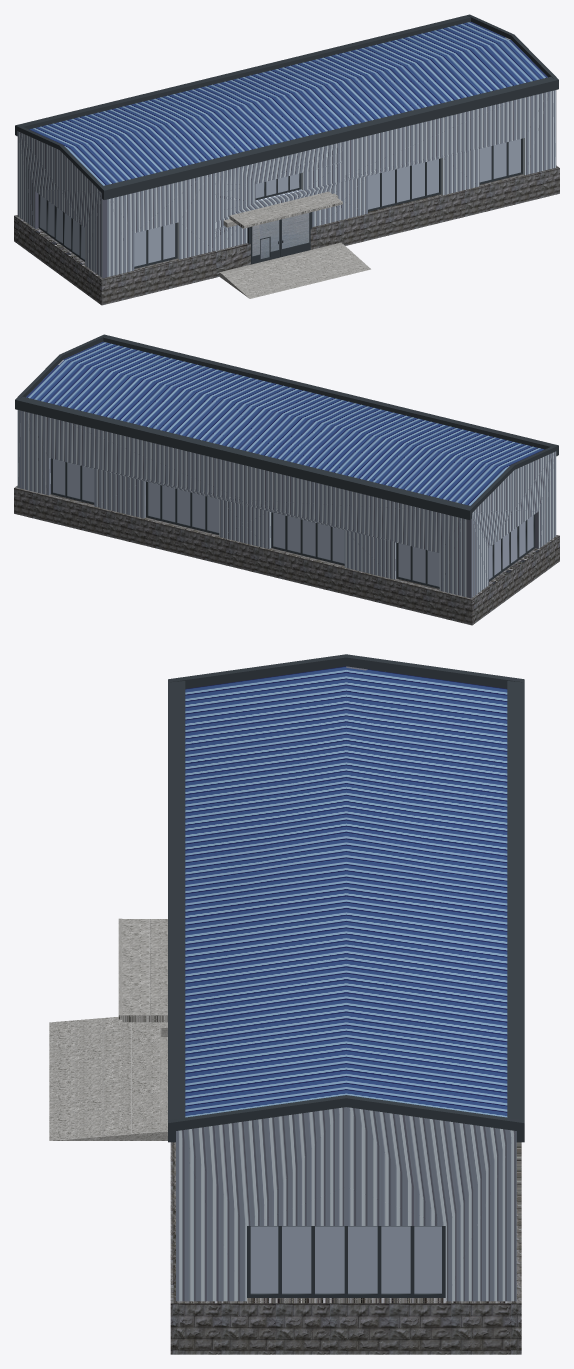
The model's file is changfanglan1.glb.
3 views of the same model, one above another, from view 1: azimuth 30°, elevation 25°; view 2: azimuth 150°, elevation 25°; view 3: azimuth 270°, elevation 25° (orthographic). The views are drawn at different scales.
Parts seen in each view (by area): view 1: 对象049, 对象046, 对象050, 对象047, 对象051, 对象053, 对象045; view 2: 对象049, 对象046, 对象047, 对象050, 对象051; view 3: 对象049, 对象046, 对象050, 对象047, 对象053, 对象051.
Part boxes in pixels (box(x1,y1,x2,y2)): 对象049: box(29, 21, 547, 185); 对象046: box(17, 37, 556, 278); 对象050: box(15, 14, 558, 268); 对象047: box(14, 165, 559, 305); 对象051: box(40, 139, 520, 266); 对象053: box(219, 191, 370, 298); 对象045: box(252, 213, 309, 258); 对象049: box(26, 341, 544, 505); 对象046: box(17, 360, 556, 598); 对象047: box(14, 485, 559, 625); 对象050: box(15, 334, 558, 588); 对象051: box(53, 459, 533, 586); 对象049: box(185, 666, 507, 1117); 对象046: box(176, 666, 516, 1301); 对象050: box(168, 654, 524, 1297); 对象047: box(170, 1142, 521, 1354); 对象053: box(49, 918, 167, 1140); 对象051: box(250, 1226, 441, 1293).
Bounding box in the file's own units: 0.0861 × 0.0229 × 0.0387.
Materials: 8 (6 with a texture image).
